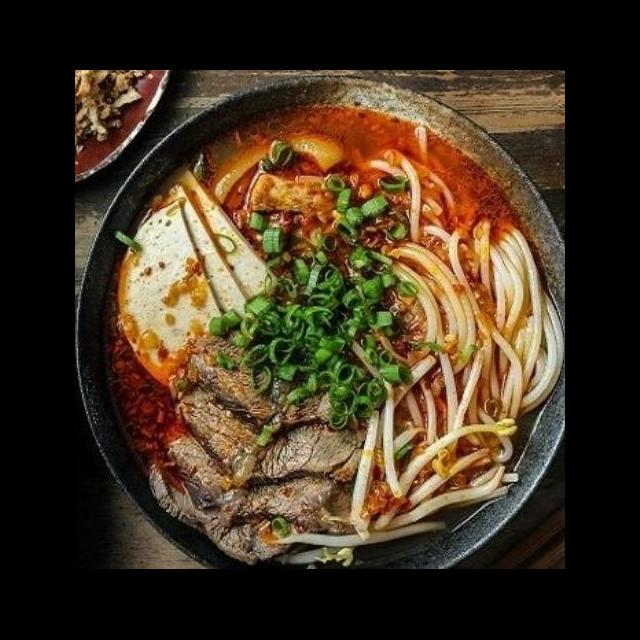bun: (354, 121, 565, 436)
bun bo: (96, 104, 565, 570)
thit bo: (156, 398, 363, 540), (181, 320, 391, 442), (175, 372, 380, 494), (139, 448, 305, 568)
